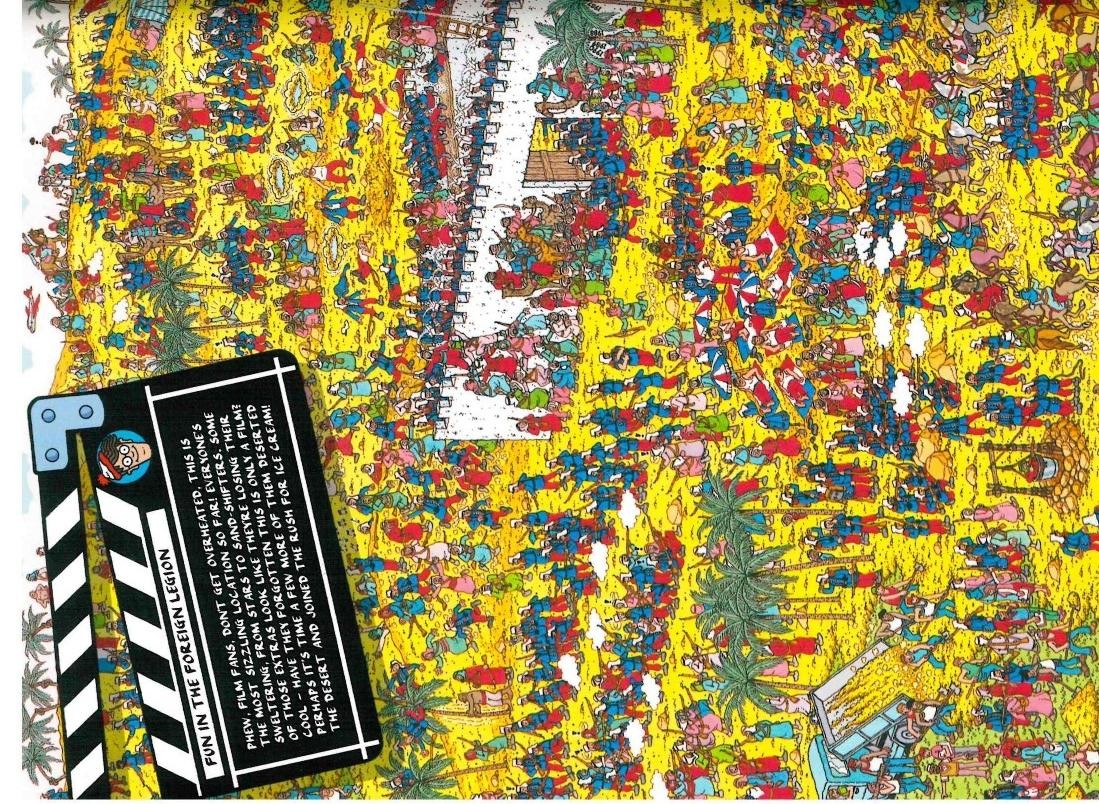waldos: (506, 634, 529, 648)
